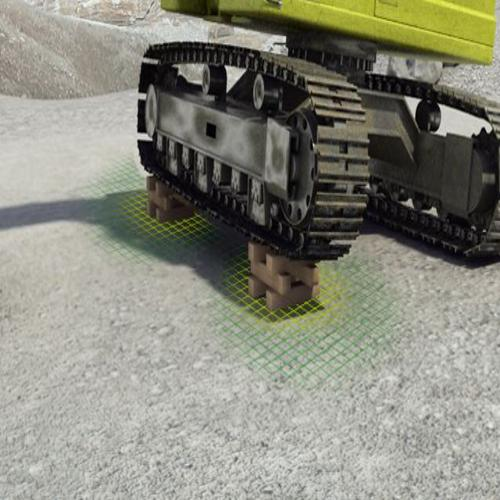con_eq: (127, 1, 500, 275)
